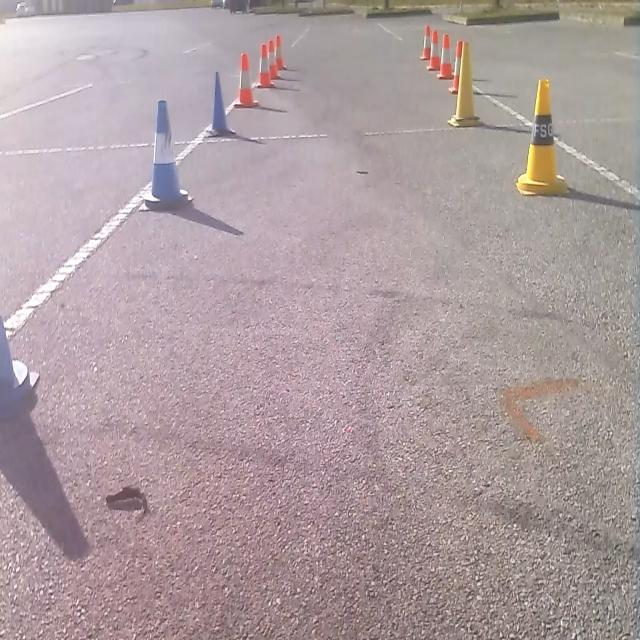blue_cone: (139, 101, 193, 211), (0, 316, 40, 427), (205, 71, 235, 137)
orange_cone: (234, 53, 258, 107), (449, 40, 464, 94), (256, 43, 273, 88), (437, 34, 453, 79), (427, 31, 440, 70), (268, 39, 278, 79), (275, 35, 286, 70), (420, 25, 431, 60)
yellow_cone: (516, 79, 568, 195), (448, 41, 481, 127)
